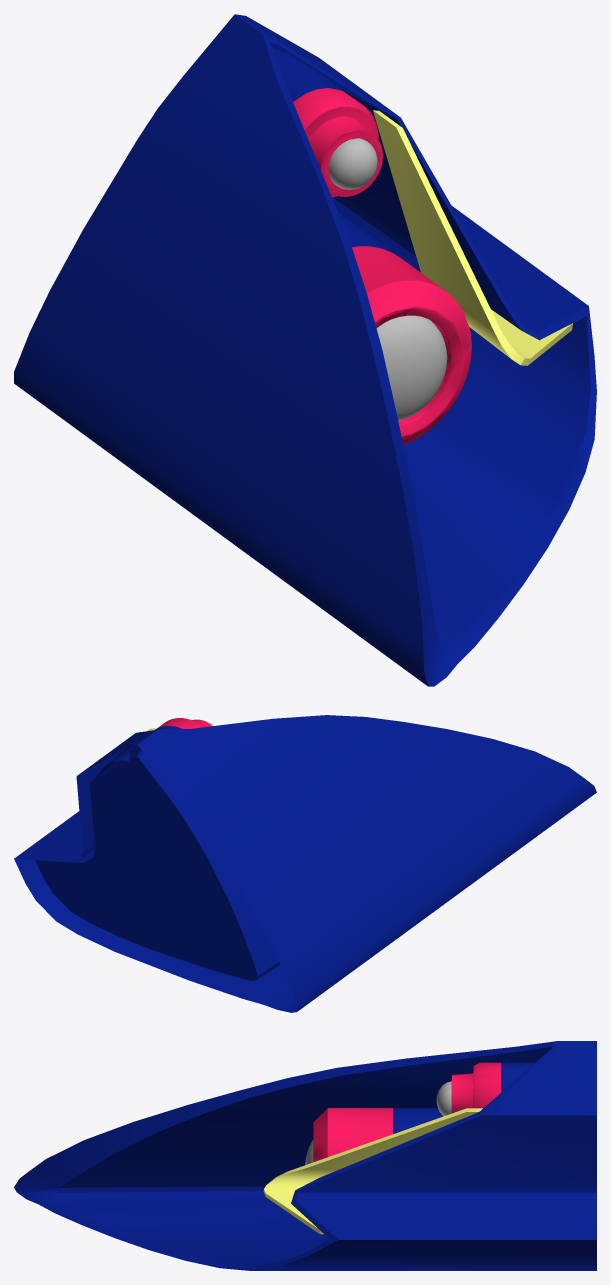
File: Nissan 370Z_Bowl.fbx
3 views of the same model, one above another, from view 1: azimuth 30°, elevation 25°; view 2: azimuth 150°, elevation 25°; view 3: azimuth 270°, elevation 25° (orthographic). The views are drawn at different scales.
Visible parts, largest first — view 1: Nissan 370Z; view 2: Nissan 370Z; view 3: Nissan 370Z.
Boxes of the visible parts, left/top/right/bottom form: Nissan 370Z: left=14, top=14, right=596, bottom=686; Nissan 370Z: left=14, top=715, right=596, bottom=1012; Nissan 370Z: left=14, top=1041, right=596, bottom=1270.
Size of the model in its own units: 17.92 by 13.96 by 32.82.
